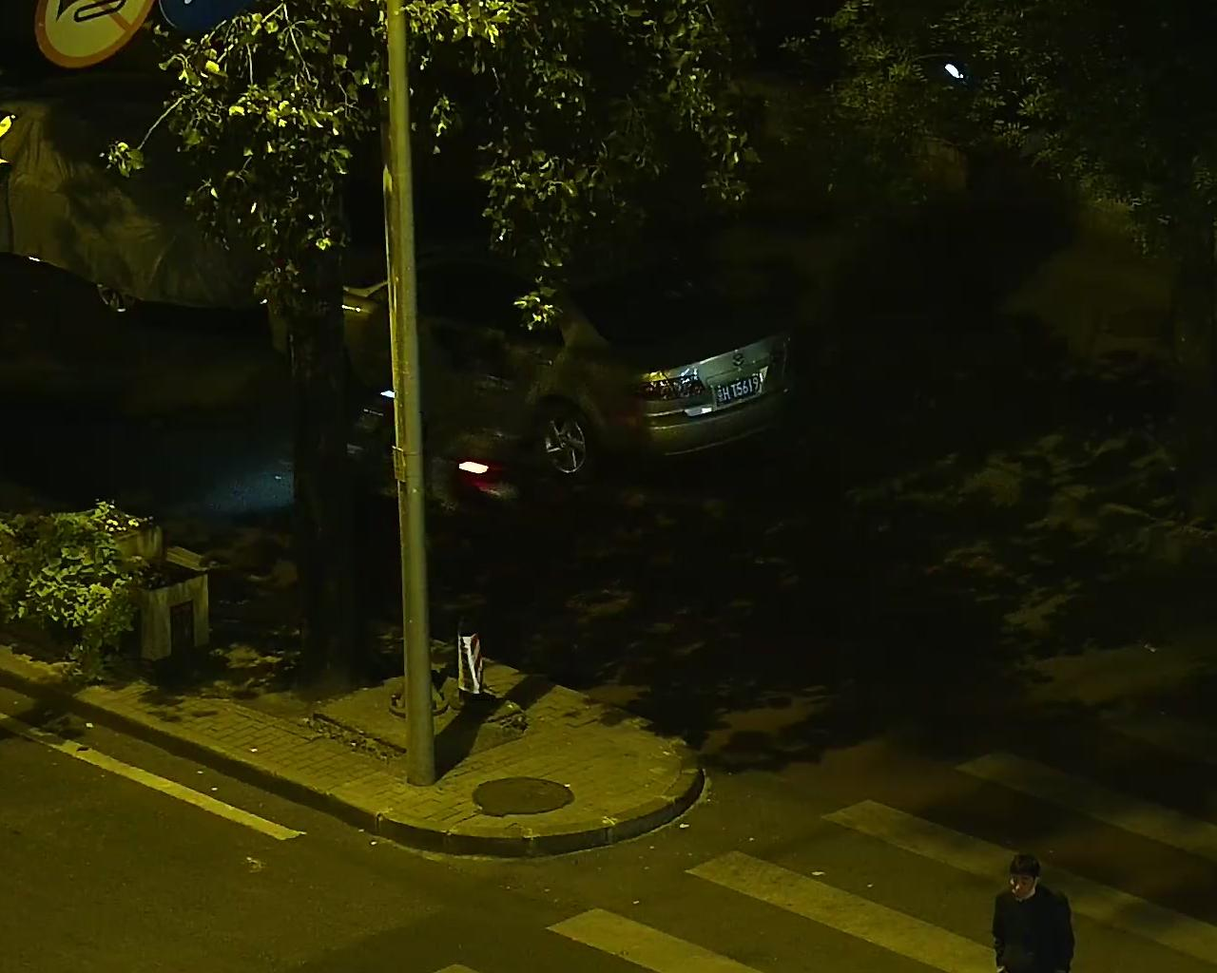person: (347, 322, 452, 498), (937, 32, 1021, 246), (418, 342, 501, 498), (993, 844, 1080, 973)
